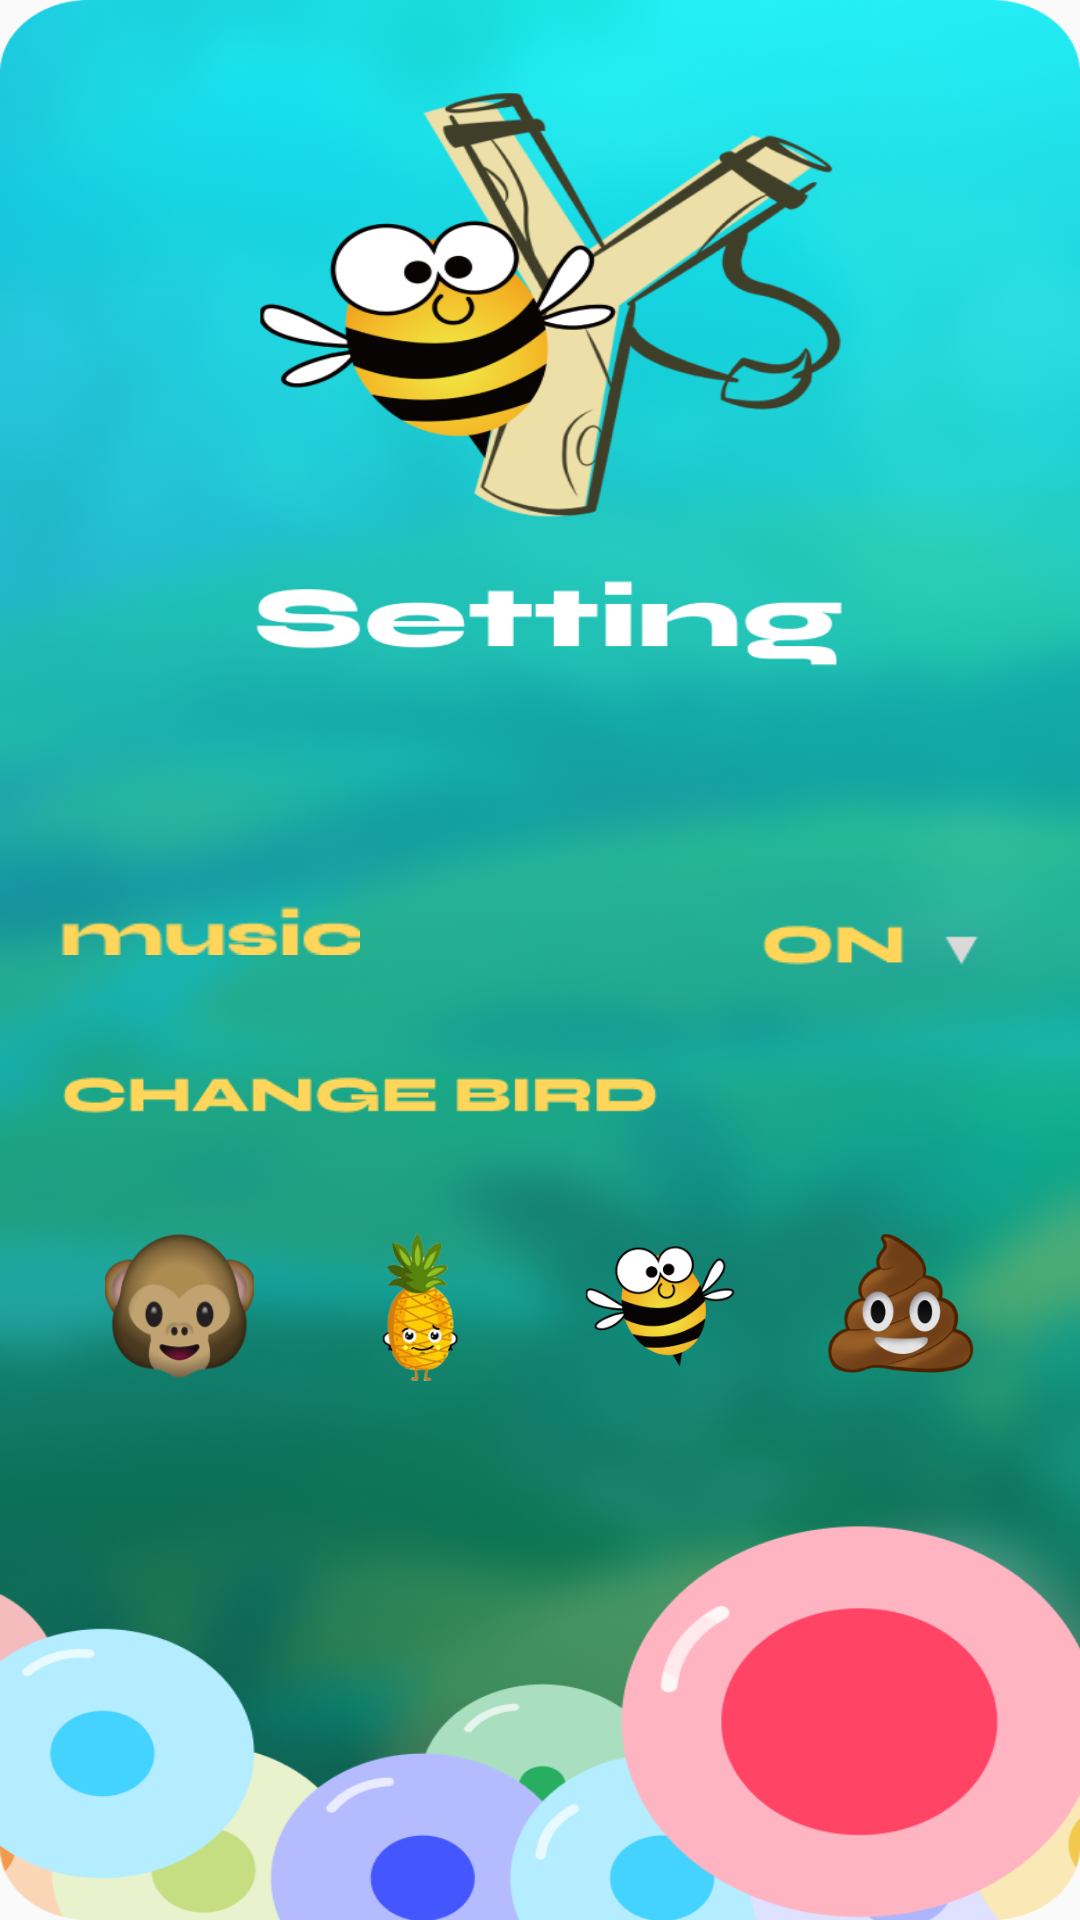

Point at icon controls on the screen. Image size 1080 x 1920, points as [x,y].
bee: [660,1306]
monkey: [180,1306]
pineapple: [420,1306]
shit: [901,1303]
